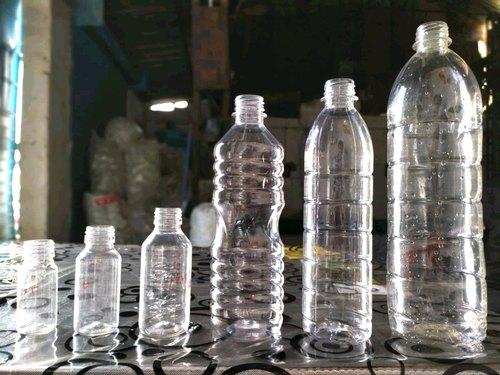plastic_bottle: (383, 14, 492, 350), (301, 74, 377, 358), (210, 88, 289, 342), (134, 200, 199, 348), (70, 221, 124, 342), (14, 234, 64, 341)
